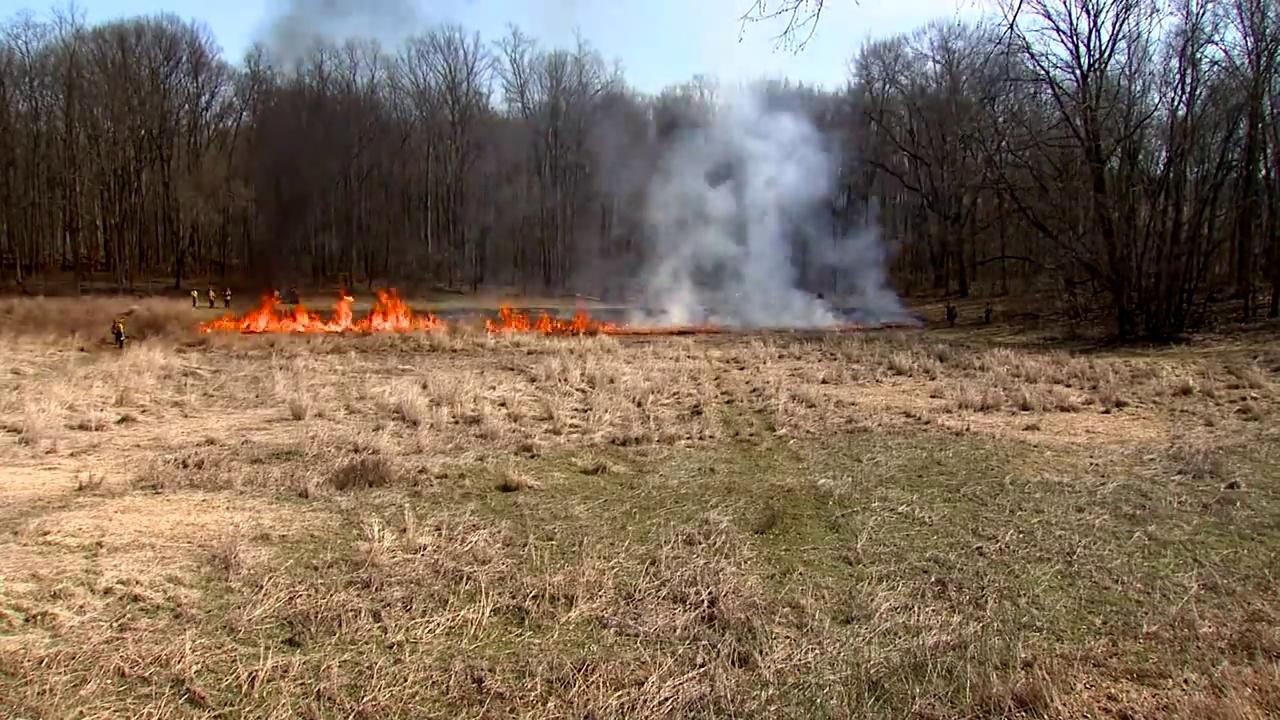Fire: (210, 300, 450, 333), (492, 302, 633, 337)
